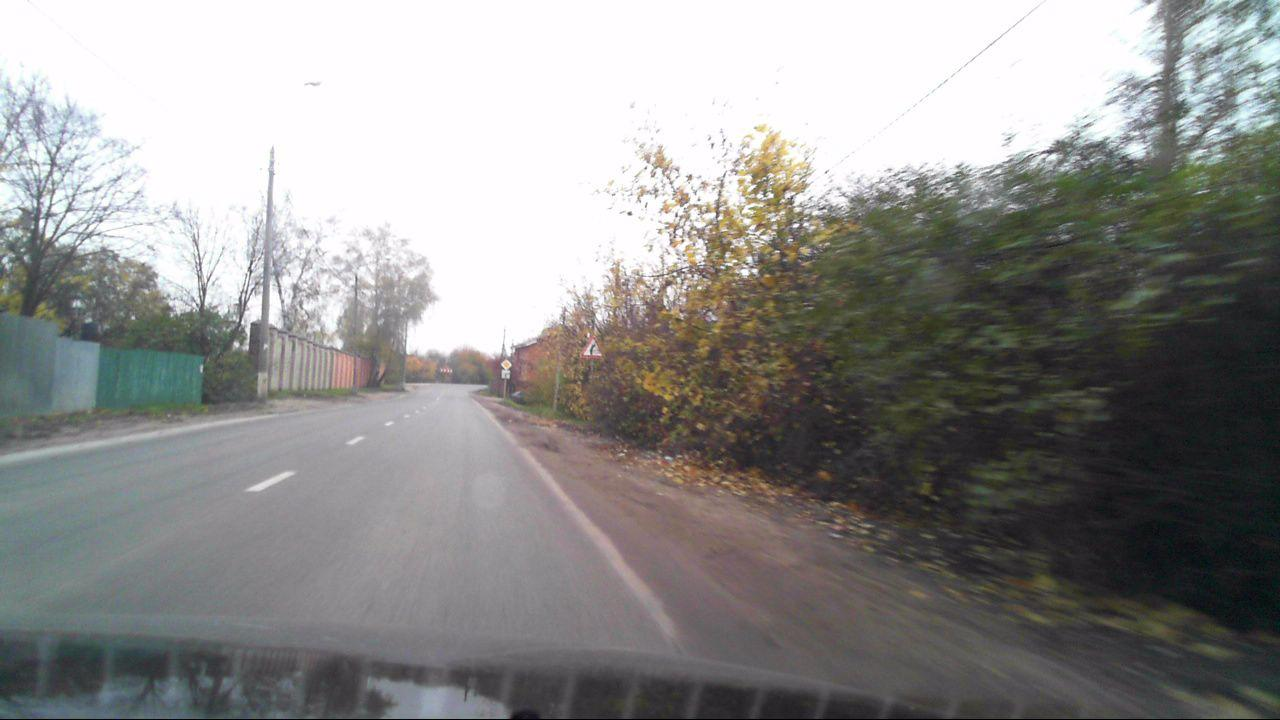road_sign: (578, 334, 606, 358)
